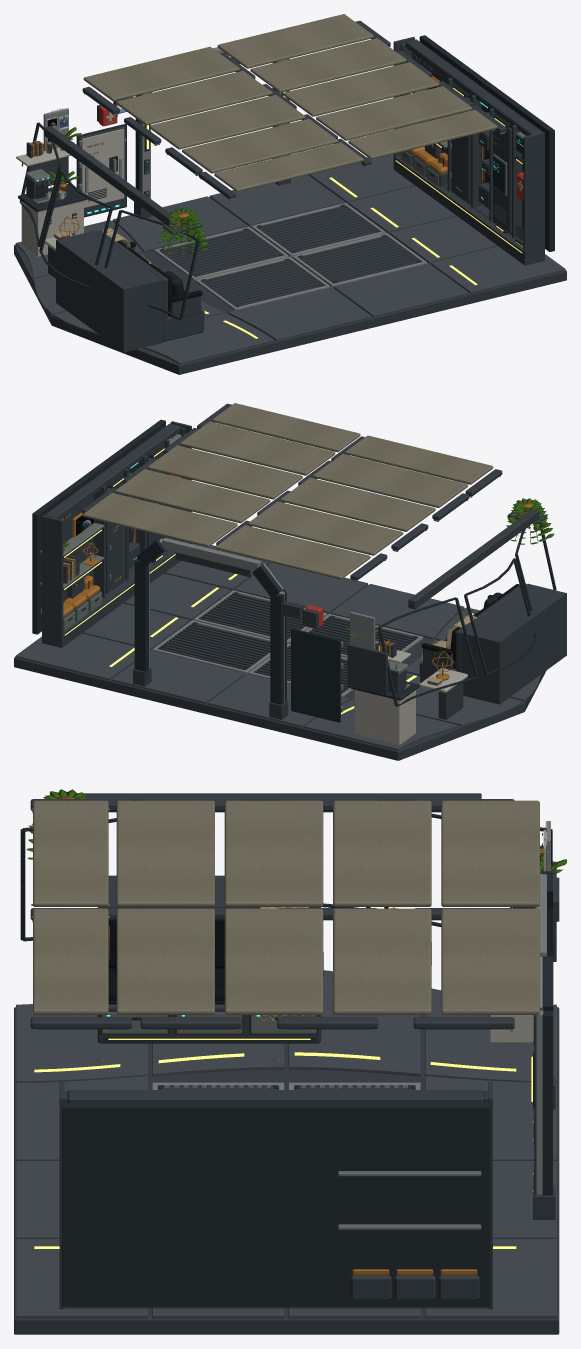
The model's file is cruz-del-sur-reference-arrival.glb.
3 renders of one model, top to bottom at view 1: azimuth 30°, elevation 25°; view 2: azimuth 150°, elevation 25°; view 3: azimuth 270°, elevation 25°, orthographic. The views are drawn at different scales.
Visible parts, largest first — view 1: REFINED_arrival_static_ARRIVAL V4 Graphite frame, REFINED_arrival_static_CABIN_REFERENCE_Padded ceiling, REFINED_arrival_static_CDS DETAIL_Graphite deck - restrained, REFINED_arrival_static_ARRIVAL V4 Gaskets, REFINED_arrival_static_ARRIVAL V4 Warm grey panels, REFINED_arrival_static_ARRIVAL V4 Ivory cabinets, REFINED_arrival_static_CABIN_REFERENCE_Brushed titanium, REFINED_arrival_static_CABIN_REFERENCE_Living green, REFINED_arrival_static_CABIN_REFERENCE_Warm diffuser, REFINED_arrival_static_CABIN_REFERENCE_Aged brass, REFINED_arrival_static_CABIN_Charcoal woven upholstery; view 2: REFINED_arrival_static_ARRIVAL V4 Graphite frame, REFINED_arrival_static_CABIN_REFERENCE_Padded ceiling, REFINED_arrival_static_CDS DETAIL_Graphite deck - restrained, REFINED_arrival_static_ARRIVAL V4 Gaskets, REFINED_arrival_static_ARRIVAL V4 Warm grey panels, REFINED_arrival_static_ARRIVAL V4 Ivory cabinets, REFINED_arrival_static_CABIN_REFERENCE_Brushed titanium, REFINED_arrival_static_CABIN_REFERENCE_Aged brass, REFINED_arrival_static_CABIN_REFERENCE_Living green, REFINED_arrival_static_CABIN_REFERENCE_Warm diffuser, REFINED_arrival_static_CABIN_Charcoal woven upholstery, REFINED_arrival_static_CABIN_REFERENCE_Woven cream (+1 smaller); view 3: REFINED_arrival_static_CABIN_REFERENCE_Padded ceiling, REFINED_arrival_static_ARRIVAL V4 Gaskets, REFINED_arrival_static_CDS DETAIL_Graphite deck - restrained, REFINED_arrival_static_ARRIVAL V4 Graphite frame, REFINED_arrival_static_ARRIVAL V4 Warm grey panels, REFINED_arrival_static_CABIN_REFERENCE_Brushed titanium, REFINED_arrival_static_CABIN_REFERENCE_Warm diffuser, REFINED_arrival_static_CABIN_Charcoal woven upholstery, REFINED_arrival_static_ARRIVAL V4 Ivory cabinets, REFINED_arrival_static_CABIN_REFERENCE_Woven ochre stripe.
Part boxes in pixels (left/top/right/bottom): REFINED_arrival_static_ARRIVAL V4 Graphite frame: left=14, top=20, right=566, bottom=374; REFINED_arrival_static_CABIN_REFERENCE_Padded ceiling: left=83, top=14, right=497, bottom=191; REFINED_arrival_static_CDS DETAIL_Graphite deck - restrained: left=15, top=154, right=565, bottom=364; REFINED_arrival_static_ARRIVAL V4 Gaskets: left=18, top=35, right=554, bottom=325; REFINED_arrival_static_ARRIVAL V4 Warm grey panels: left=38, top=47, right=427, bottom=310; REFINED_arrival_static_ARRIVAL V4 Ivory cabinets: left=16, top=112, right=147, bottom=256; REFINED_arrival_static_CABIN_REFERENCE_Brushed titanium: left=21, top=89, right=525, bottom=326; REFINED_arrival_static_CABIN_REFERENCE_Living green: left=49, top=127, right=207, bottom=254; REFINED_arrival_static_CABIN_REFERENCE_Warm diffuser: left=146, top=87, right=522, bottom=338; REFINED_arrival_static_CABIN_REFERENCE_Aged brass: left=29, top=75, right=489, bottom=311; REFINED_arrival_static_CABIN_Charcoal woven upholstery: left=117, top=240, right=202, bottom=316; REFINED_arrival_static_ARRIVAL V4 Graphite frame: left=14, top=403, right=566, bottom=760; REFINED_arrival_static_CABIN_REFERENCE_Padded ceiling: left=82, top=403, right=493, bottom=579; REFINED_arrival_static_CDS DETAIL_Graphite deck - restrained: left=15, top=543, right=541, bottom=750; REFINED_arrival_static_ARRIVAL V4 Gaskets: left=32, top=419, right=556, bottom=722; REFINED_arrival_static_ARRIVAL V4 Warm grey panels: left=149, top=537, right=423, bottom=701; REFINED_arrival_static_ARRIVAL V4 Ivory cabinets: left=354, top=646, right=467, bottom=745; REFINED_arrival_static_CABIN_REFERENCE_Brushed titanium: left=40, top=434, right=500, bottom=712; REFINED_arrival_static_CABIN_REFERENCE_Aged brass: left=63, top=474, right=533, bottom=680; REFINED_arrival_static_CABIN_REFERENCE_Living green: left=63, top=498, right=554, bottom=639; REFINED_arrival_static_CABIN_REFERENCE_Warm diffuser: left=64, top=448, right=473, bottom=714; REFINED_arrival_static_CABIN_Charcoal woven upholstery: left=421, top=584, right=519, bottom=668; REFINED_arrival_static_CABIN_REFERENCE_Woven cream: left=72, top=561, right=476, bottom=686; REFINED_arrival_static_CABIN_REFERENCE_Padded ceiling: left=33, top=800, right=539, bottom=1014; REFINED_arrival_static_ARRIVAL V4 Gaskets: left=20, top=813, right=553, bottom=1306; REFINED_arrival_static_CDS DETAIL_Graphite deck - restrained: left=16, top=970, right=556, bottom=1318; REFINED_arrival_static_ARRIVAL V4 Graphite frame: left=14, top=793, right=559, bottom=1334; REFINED_arrival_static_ARRIVAL V4 Warm grey panels: left=152, top=821, right=550, bottom=1194; REFINED_arrival_static_CABIN_REFERENCE_Brushed titanium: left=31, top=808, right=543, bottom=1229; REFINED_arrival_static_CABIN_REFERENCE_Warm diffuser: left=34, top=1038, right=532, bottom=1248; REFINED_arrival_static_CABIN_Charcoal woven upholstery: left=108, top=920, right=323, bottom=1004; REFINED_arrival_static_ARRIVAL V4 Ivory cabinets: left=431, top=830, right=552, bottom=1192; REFINED_arrival_static_CABIN_REFERENCE_Woven ochre stripe: left=352, top=1269, right=477, bottom=1274.
Bounding box in the file's own units: 9.48 × 3.43 × 6.28.
28 materials, 12 textured.
